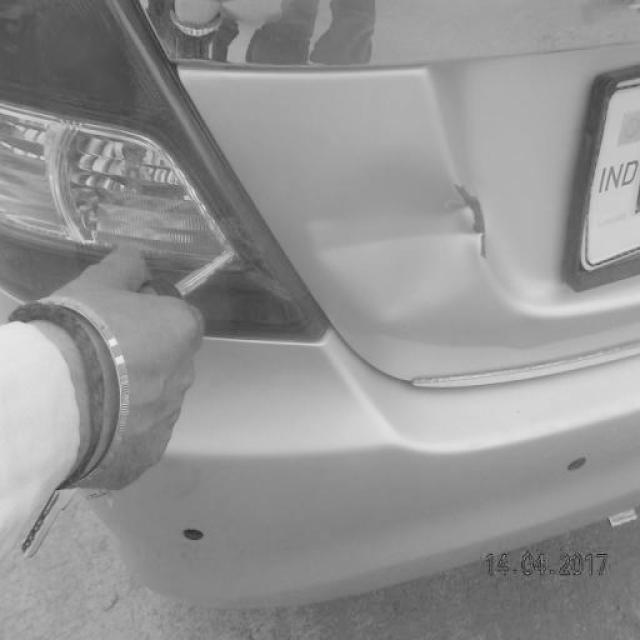car damage: (306, 151, 484, 319)
